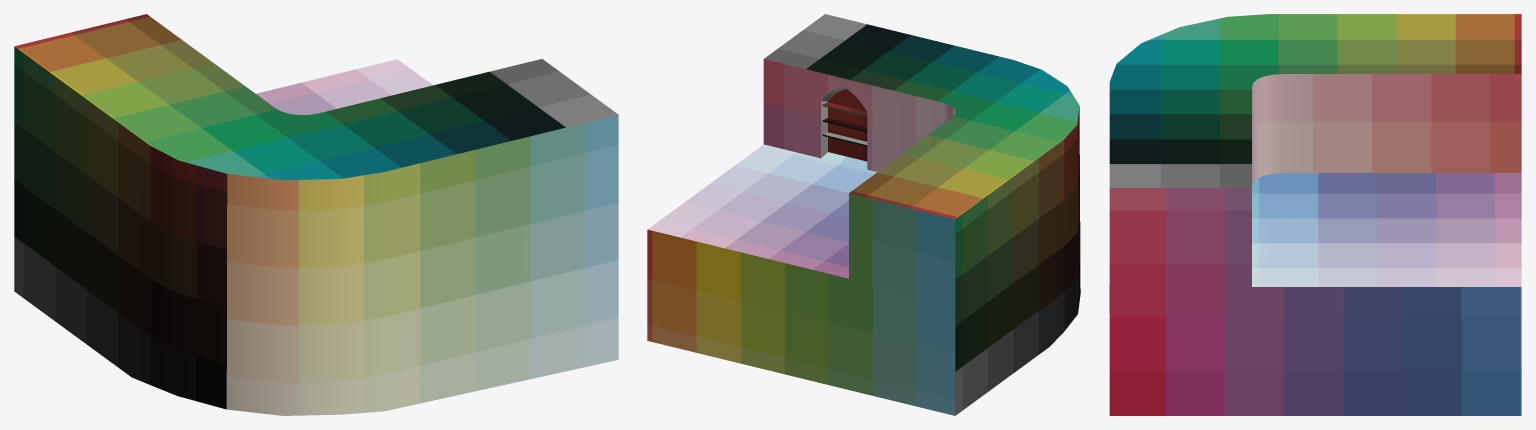
Rendered from Block.fbx.
The picture shows the model from 3 angles, left to right: view 1: azimuth 30°, elevation 25°; view 2: azimuth 150°, elevation 25°; view 3: azimuth 270°, elevation 25°; orthographic projection. The views are drawn at different scales.
Parts seen in each view (by area): view 1: block; view 2: block; view 3: block.
Boxes of the visible parts, x1,y1,x2,y2 form: block: (14, 14, 618, 415); block: (647, 14, 1080, 415); block: (1109, 14, 1521, 415).
Bounding box in the file's own units: 11.32 × 6.91 × 11.32.
